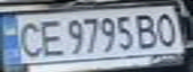5: (115, 12, 136, 51)
7: (81, 15, 103, 54)
9: (63, 16, 84, 55), (97, 14, 118, 53)
B: (133, 11, 163, 50)
C: (12, 18, 45, 58)
E: (33, 17, 66, 57)
O: (151, 10, 184, 47)
